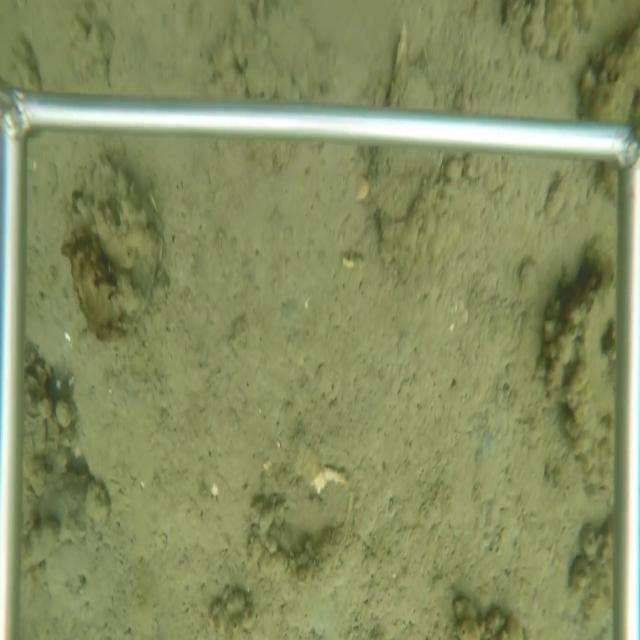Oyster-Indeterminate: (365, 148, 446, 222), (384, 22, 410, 106)
